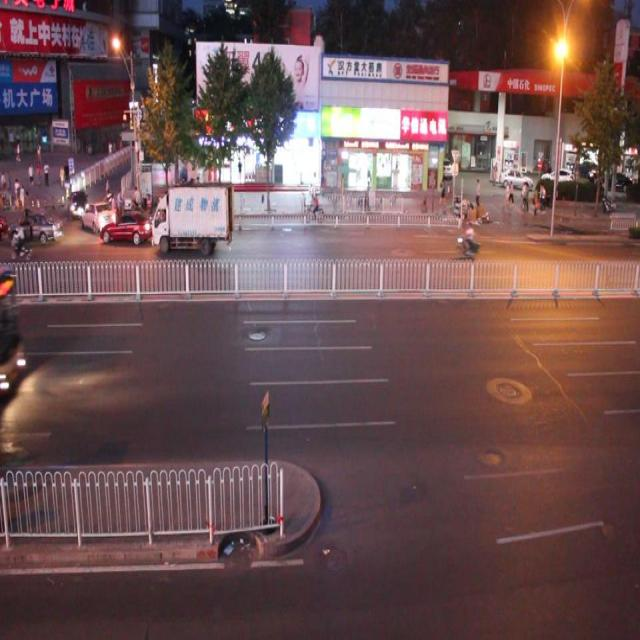bus: (151, 186, 232, 253)
car: (166, 185, 223, 232), (11, 202, 65, 241), (100, 209, 151, 245), (81, 198, 116, 235), (69, 186, 89, 219)
